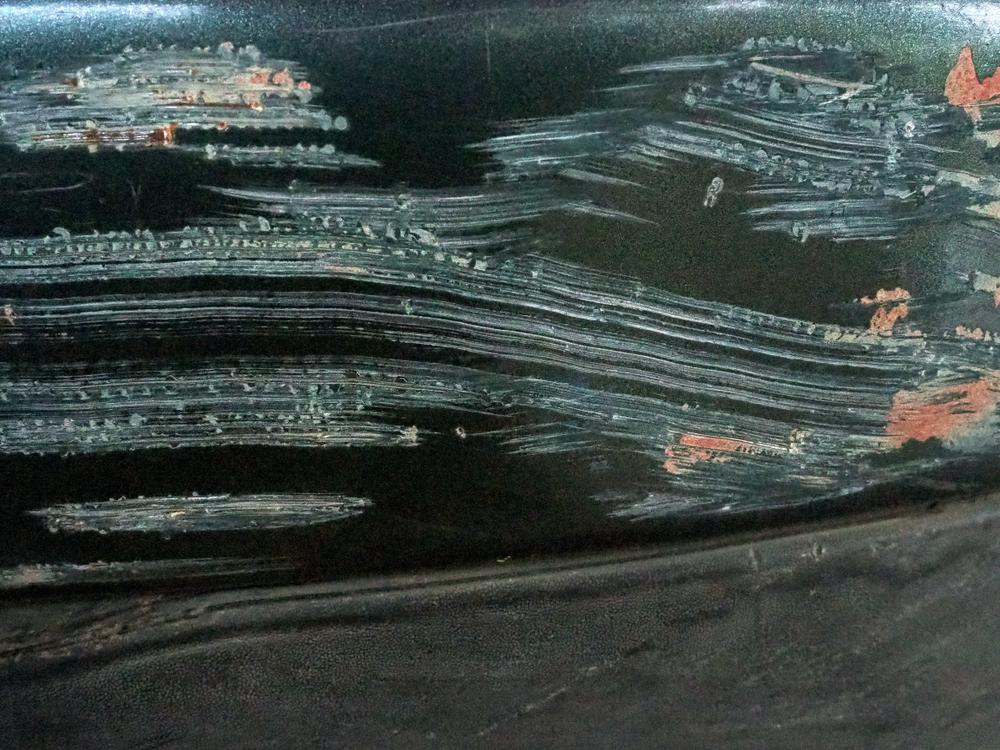scratch: (0, 9, 1000, 657)
